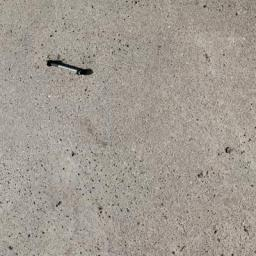FOD: (45, 55, 96, 82)
